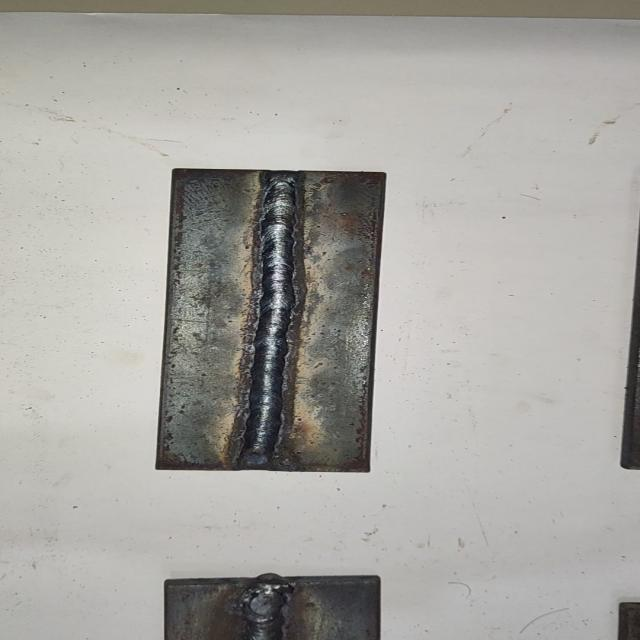Good Weld: (239, 176, 301, 464), (239, 585, 289, 640)
